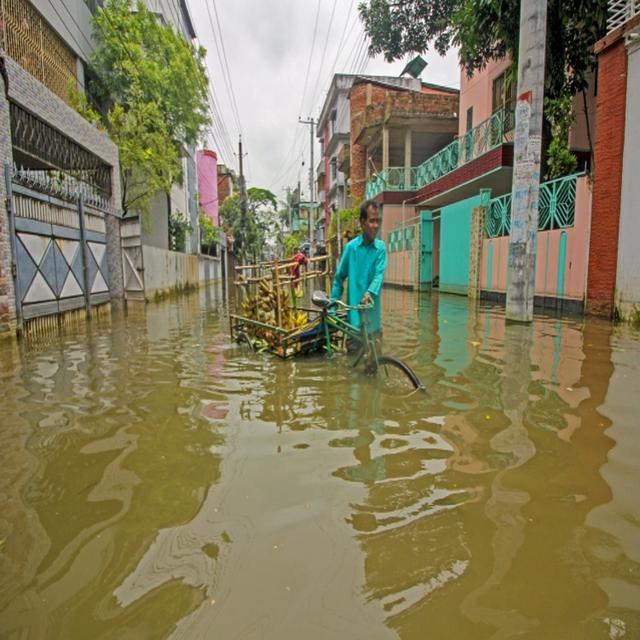Person-RiskLevel2: (312, 192, 401, 379)
